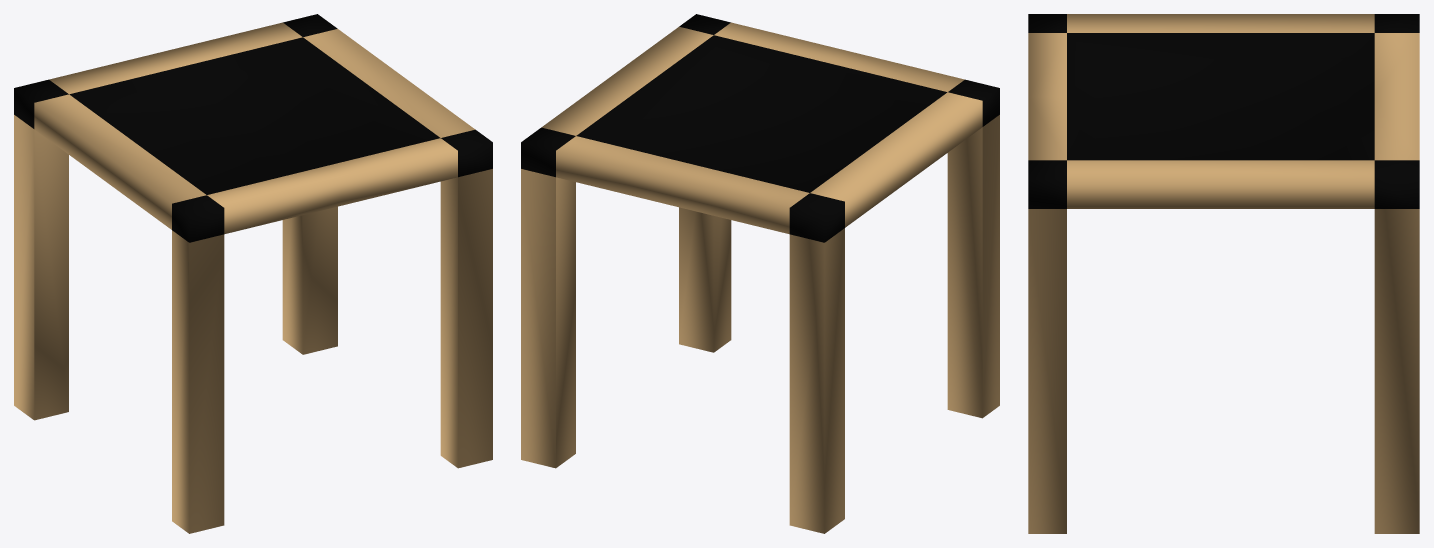
Rendered from workbench.fbx.
The picture shows the model from 3 angles, left to right: view 1: azimuth 30°, elevation 25°; view 2: azimuth 150°, elevation 25°; view 3: azimuth 270°, elevation 25°; orthographic projection. The views are drawn at different scales.
Visible parts, largest first — view 1: Cube; view 2: Cube; view 3: Cube.
Part boxes in pixels (x1=…): Cube: x1=14, y1=14, x2=492, y2=533; Cube: x1=521, y1=14, x2=999, y2=533; Cube: x1=1028, y1=14, x2=1419, y2=533.
Bounding box in the file's own units: 100 × 100 × 100.
